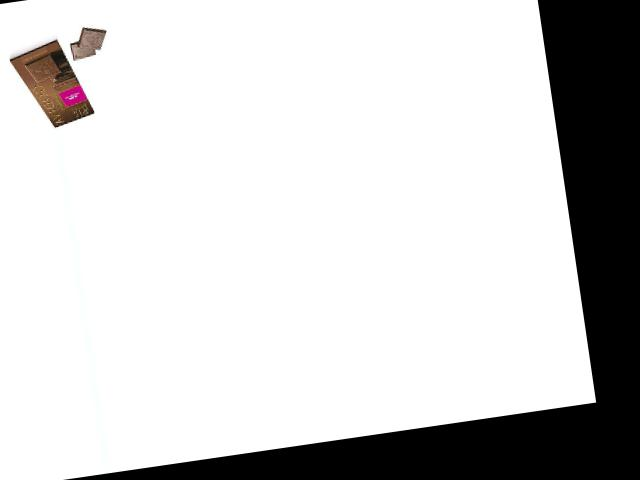chocolate: (7, 34, 97, 134)
